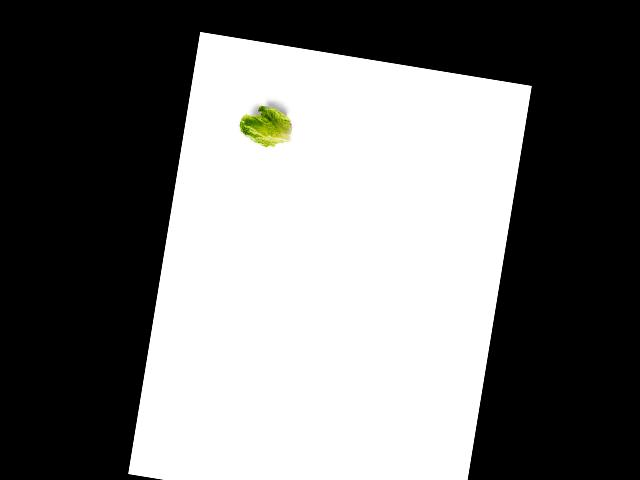lettuce: (233, 101, 300, 153)
